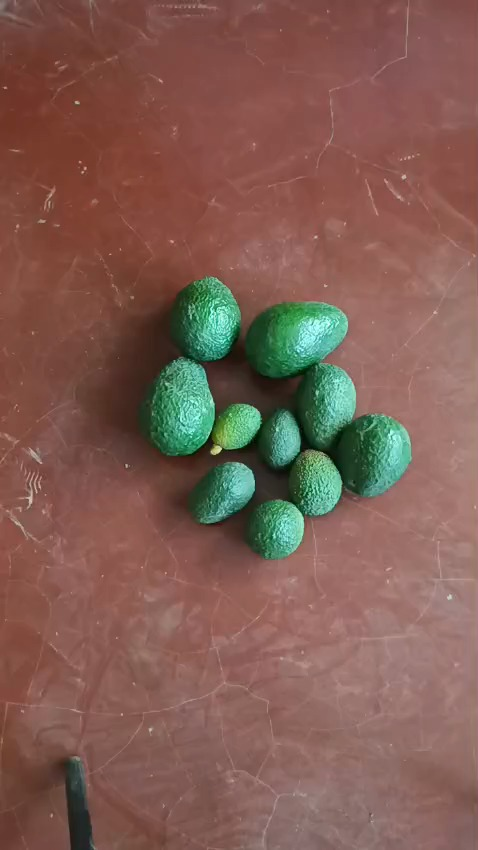Primera: (245, 302, 348, 377), (140, 356, 216, 456), (168, 274, 243, 362)
Segunda: (334, 413, 412, 495), (294, 361, 357, 450)
Tercera: (186, 459, 256, 524), (243, 496, 305, 558), (287, 450, 343, 516), (208, 401, 263, 453), (256, 407, 300, 469)
